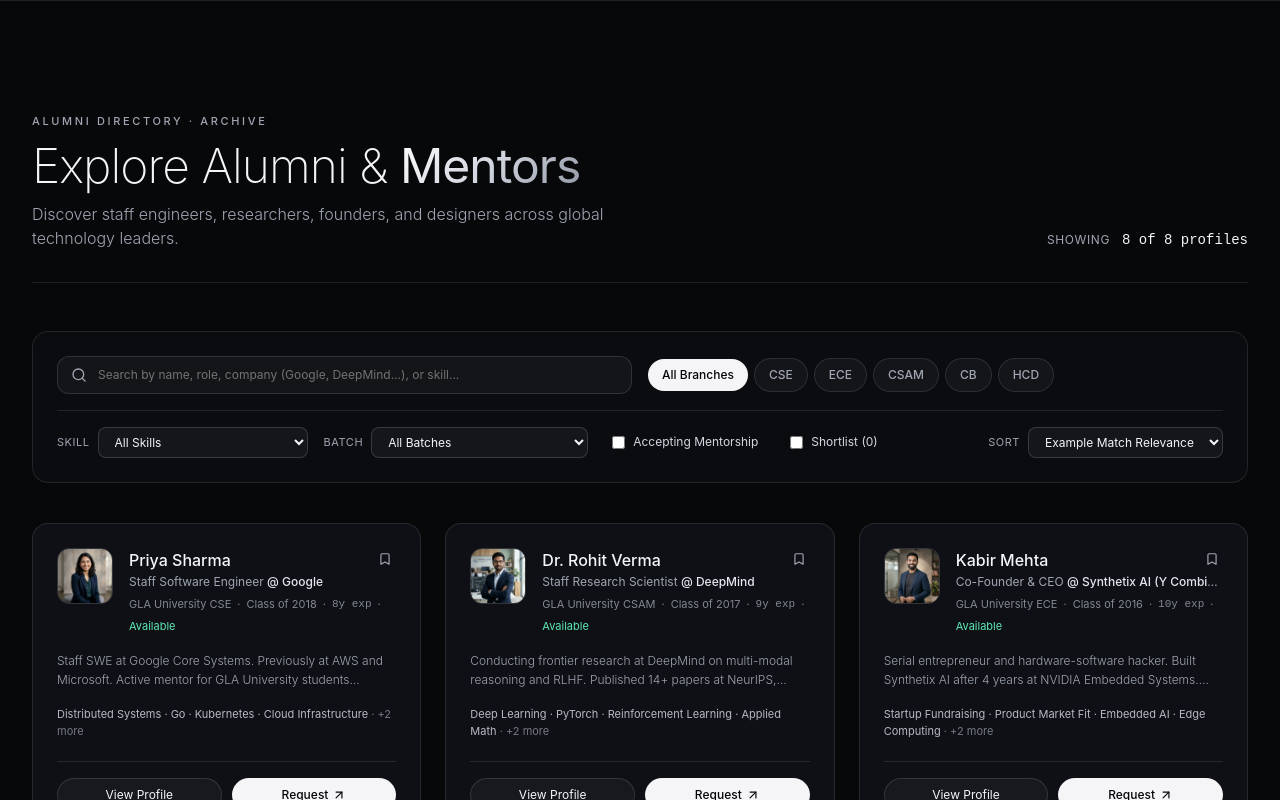
Test: AlumniExplorer, OpportunitySection, and SmartIntroAssistant › filters alumni by branch, search query, shortlist bookmark, and resets empty state cleanly
The image size is (1280, 800).
Expected: the text "8 of 8 profiles" is shown, [1122,230,1248,250]
Filter by HCD branch
Click the button "HCD".
click(1026, 374)  # box [998,358,1054,392]
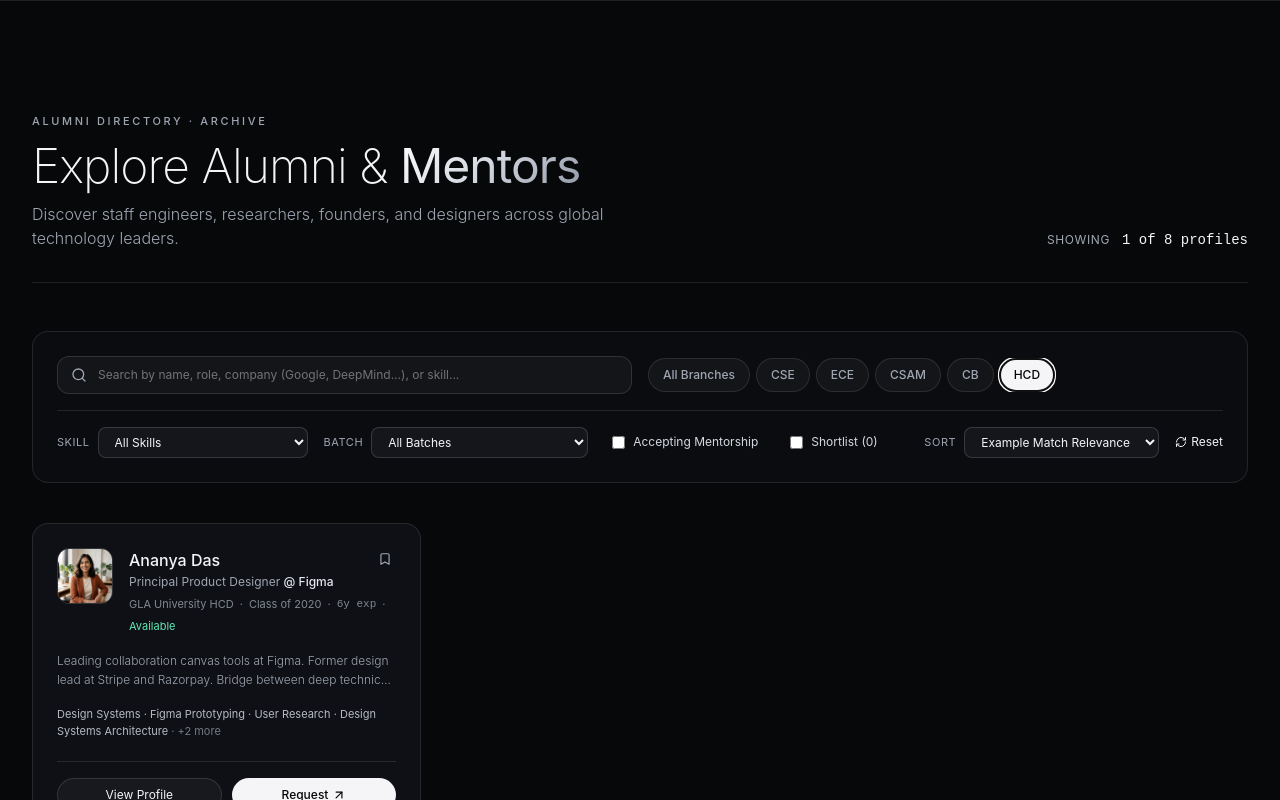
Expected: the heading "Ananya Das" is shown, [129,548,220,572]
Now the text "1 of 8 profiles" is shown, box [1122,230,1248,250]
Bookmark Ananya Das
Click the button named "save ananya das to shortlist".
click(385, 558)  # box [374,548,396,570]
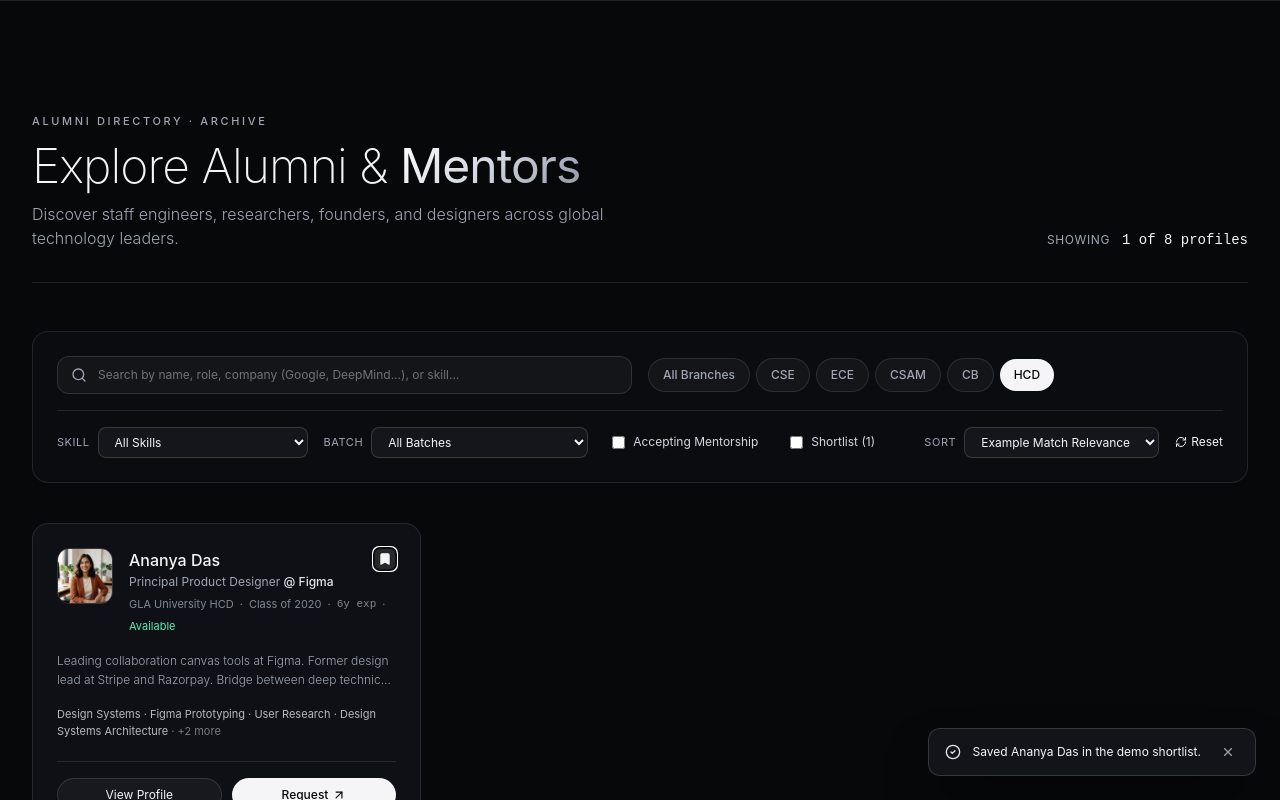
Now the text "Shortlist (1)" is shown, box [811,434,875,450]
Search nonsense triggers empty state and reset restores full directory
Type "zzzz-nonexistent" into the field named "search alumni".
click(344, 374); type("zzzz-nonexistent")  # box [57,356,632,394]
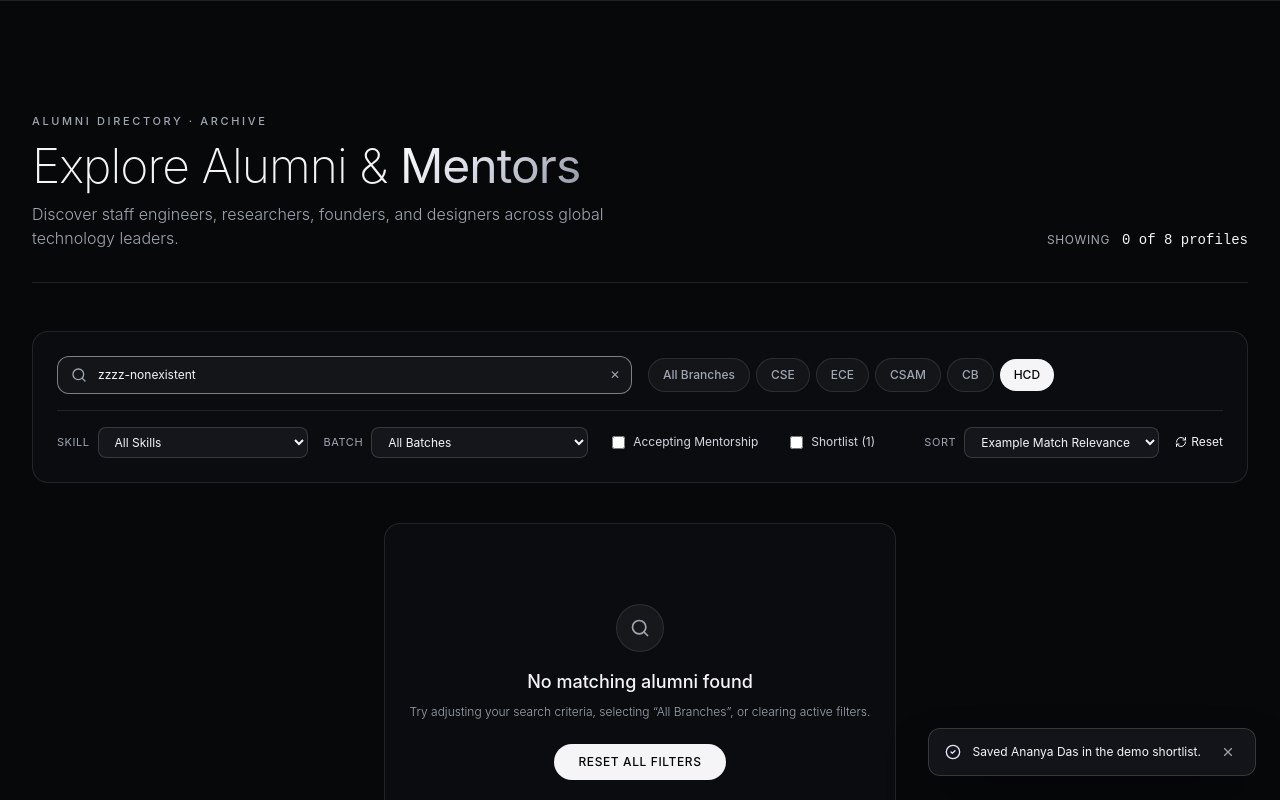
Now the heading "No matching alumni found" is shown, box [527,670,753,692]
Click the button "Reset All Filters".
click(640, 762)  # box [554,744,726,780]
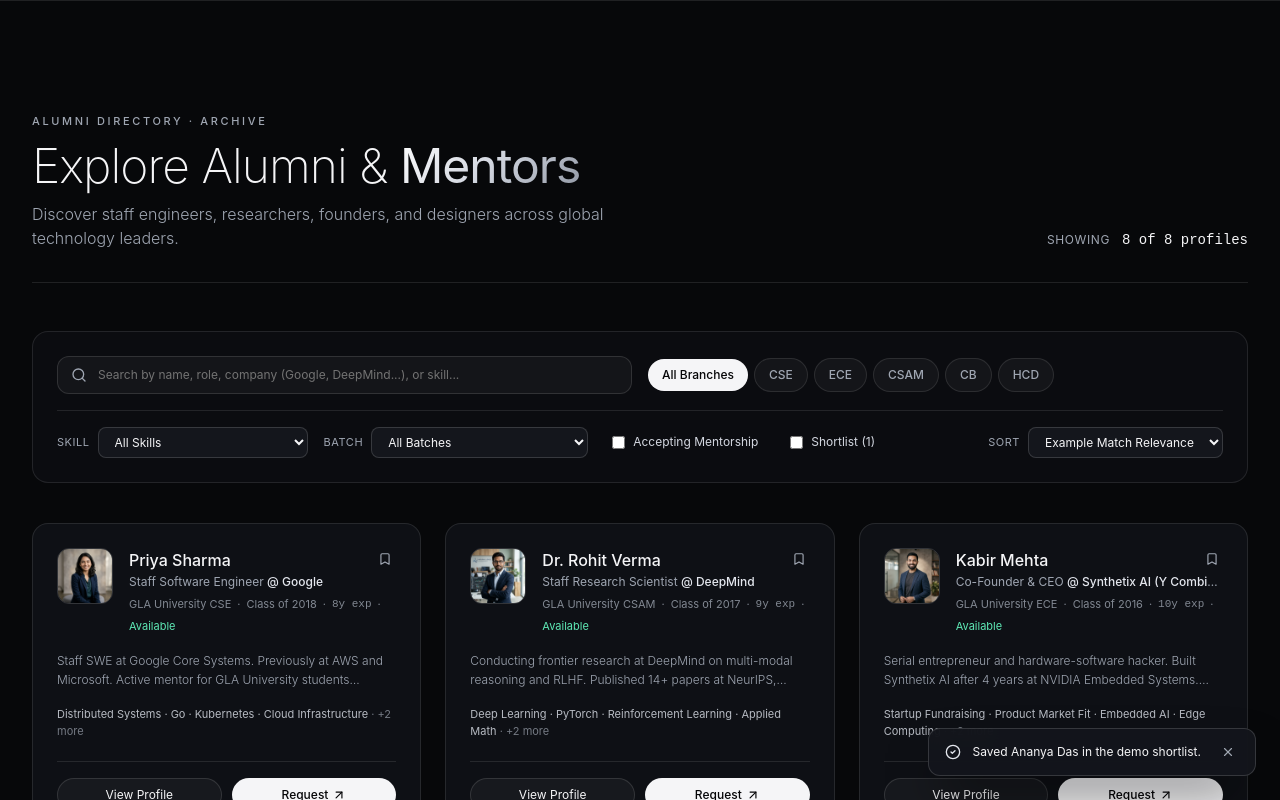
Now the text "8 of 8 profiles" is shown, box [1122,230,1248,250]
